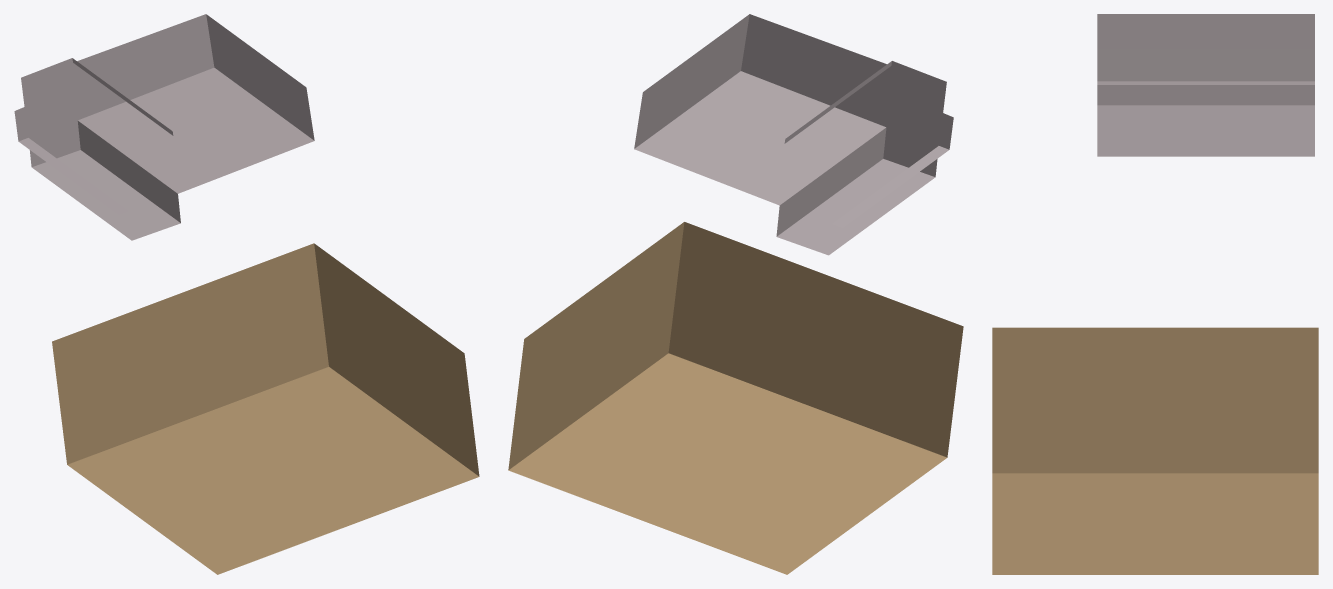
3 renders of one model, left to right at view 1: azimuth 30°, elevation 25°; view 2: azimuth 150°, elevation 25°; view 3: azimuth 270°, elevation 25°, orthographic. The views are drawn at different scales.
Visible parts, largest first — view 1: 0_3_2_2_3_0_3_3; view 2: 0_3_2_2_3_0_3_3; view 3: 0_3_2_2_3_0_3_3.
Boxes of the visible parts, bbox=[...] form: 0_3_2_2_3_0_3_3: bbox=[14, 14, 479, 574]; 0_3_2_2_3_0_3_3: bbox=[508, 14, 963, 574]; 0_3_2_2_3_0_3_3: bbox=[992, 14, 1318, 574].
Bounding box in the file's own units: 32.76 × 41.44 × 27.
